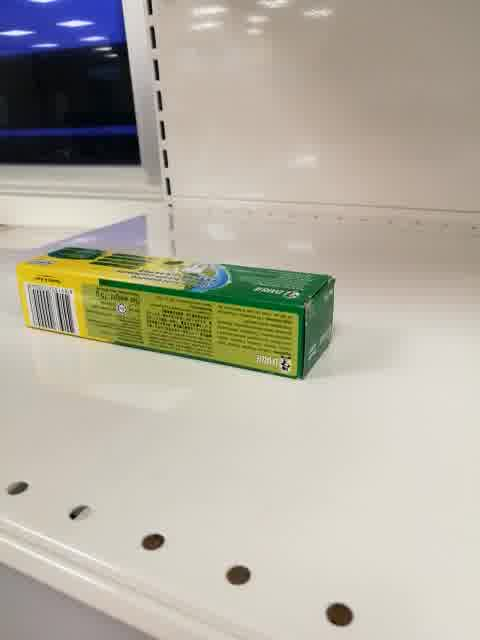toothpaste: (17, 245, 337, 382)
